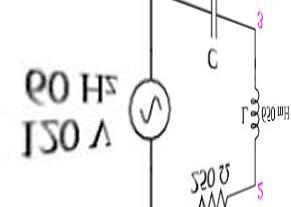inductor: (248, 80, 264, 145)
